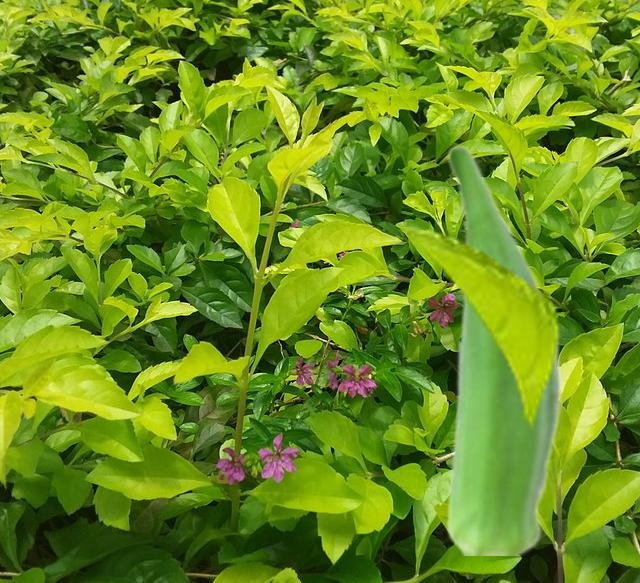okra: (445, 143, 562, 554)
